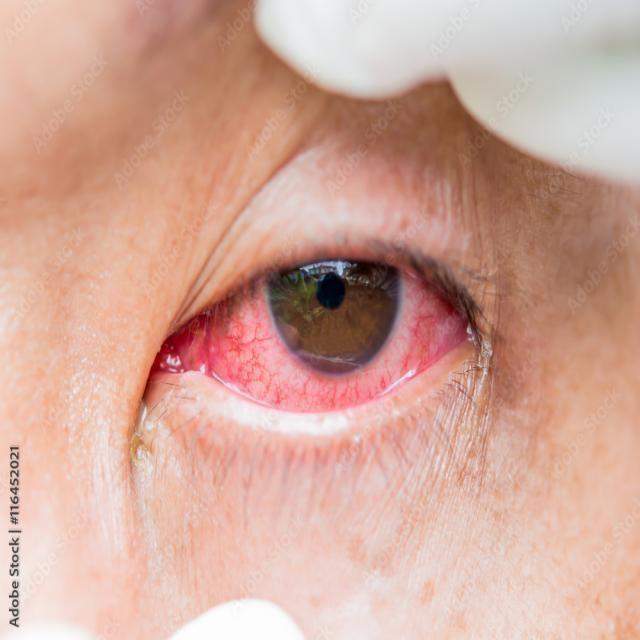Conjunctivitis: (156, 280, 476, 412)
